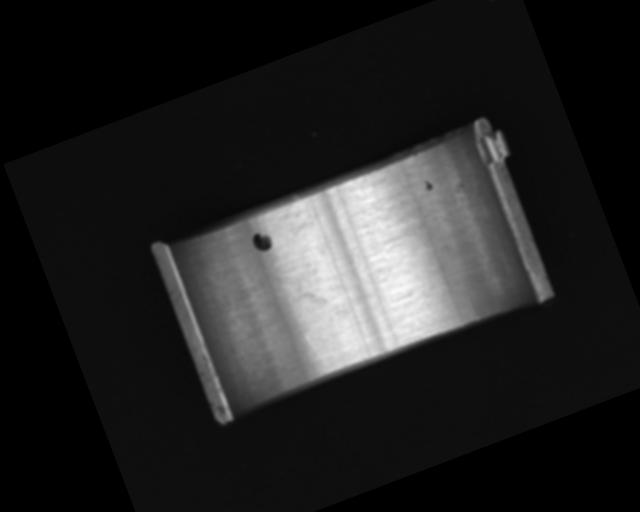blot: (271, 261, 331, 324), (249, 228, 275, 255)
bruise: (421, 178, 435, 194)
nick: (303, 329, 331, 372)
